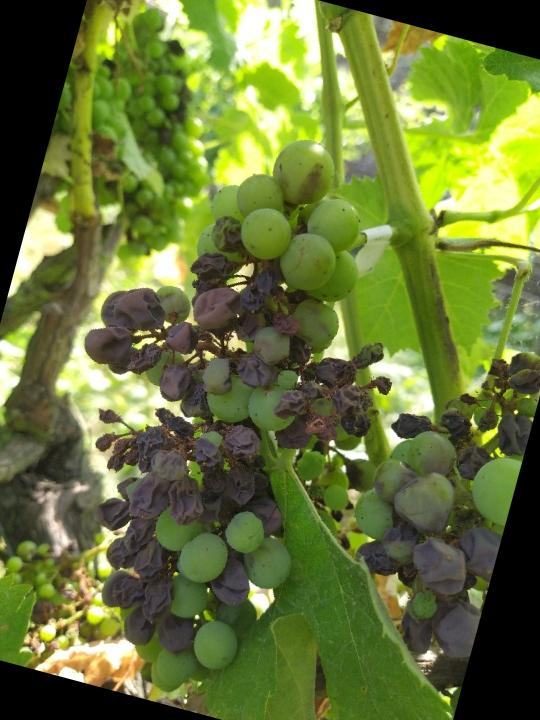grape: (0, 90, 453, 720), (40, 0, 245, 267)
